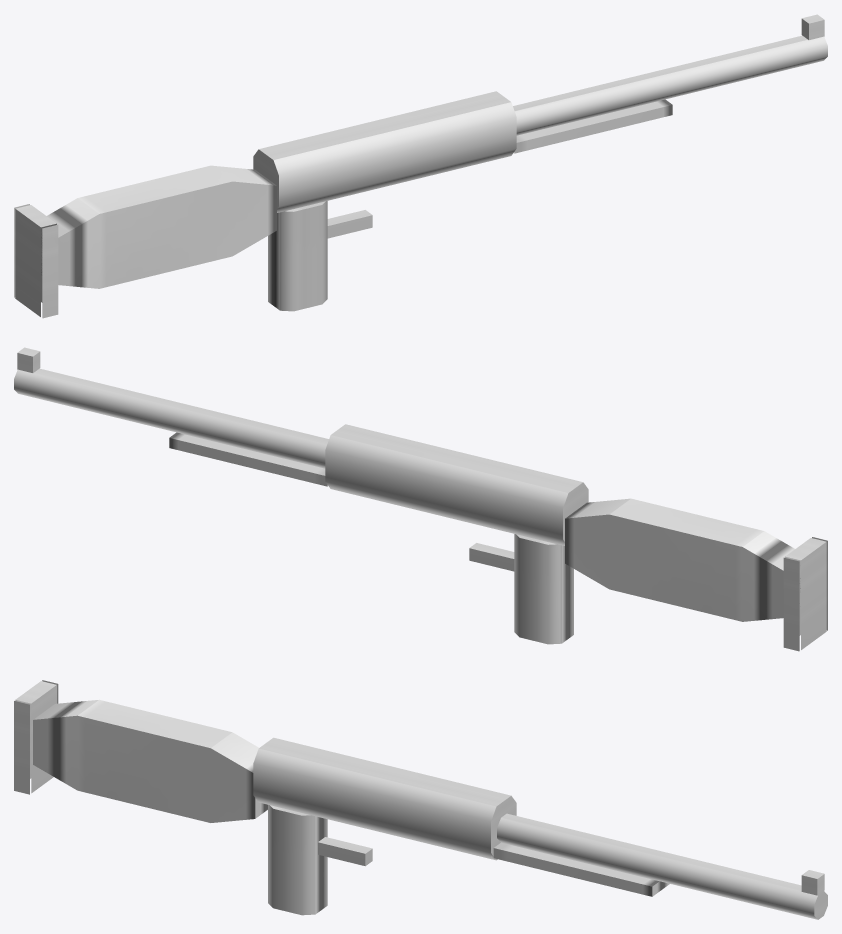
Rendered from bolt_rifle.obj.
3 renders of one model, top to bottom at view 1: azimuth 30°, elevation 25°; view 2: azimuth 150°, elevation 25°; view 3: azimuth 330°, elevation 25°, orthographic.
Parts seen in each view (by area): view 1: stock_or_grip, receiver, barrel_muzzle, grip_or_magazine, butt_or_trigger, magazine_or_foregrip, trigger_bridge; view 2: stock_or_grip, receiver, barrel_muzzle, grip_or_magazine, butt_or_trigger, magazine_or_foregrip, trigger_bridge; view 3: stock_or_grip, receiver, barrel_muzzle, grip_or_magazine, magazine_or_foregrip, butt_or_trigger, trigger_bridge, front_sight.
Boxes of the visible parts, x1,y1,x2,y2 form: stock_or_grip: (41, 165, 276, 288); receiver: (253, 91, 516, 212); barrel_muzzle: (513, 35, 827, 135); grip_or_magazine: (268, 201, 327, 311); butt_or_trigger: (14, 204, 58, 318); magazine_or_foregrip: (511, 99, 672, 153); trigger_bridge: (327, 210, 372, 238); stock_or_grip: (565, 498, 800, 621); receiver: (325, 424, 588, 545); barrel_muzzle: (14, 368, 328, 468); grip_or_magazine: (514, 534, 573, 644); butt_or_trigger: (783, 537, 827, 651); magazine_or_foregrip: (169, 432, 330, 486); trigger_bridge: (469, 543, 514, 571); stock_or_grip: (33, 699, 267, 822); receiver: (253, 737, 516, 860); barrel_muzzle: (497, 813, 827, 919); grip_or_magazine: (268, 805, 327, 915); magazine_or_foregrip: (491, 842, 669, 896); butt_or_trigger: (14, 680, 58, 794); trigger_bridge: (318, 837, 372, 866); front_sight: (801, 870, 824, 895).
Size of the model in its own units: 1 by 0.1875 by 0.062.
